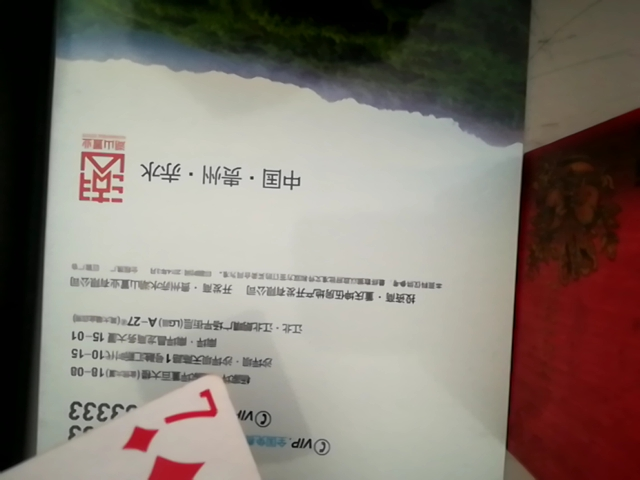fk 7: (8, 377, 285, 480)
